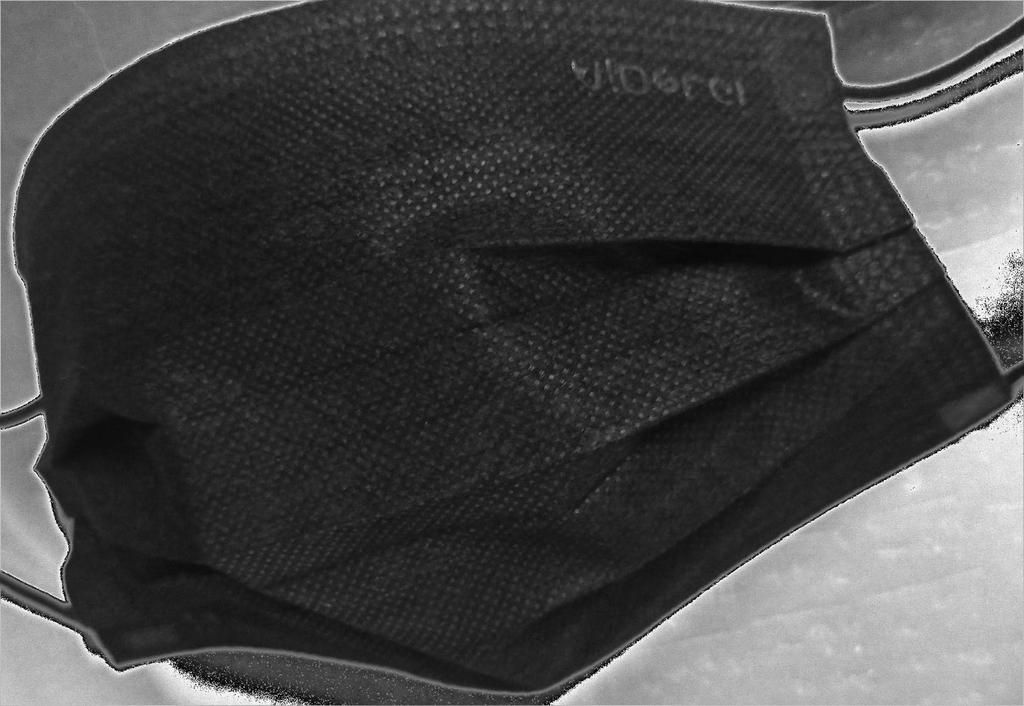Low GSM: (14, 2, 1012, 699)
